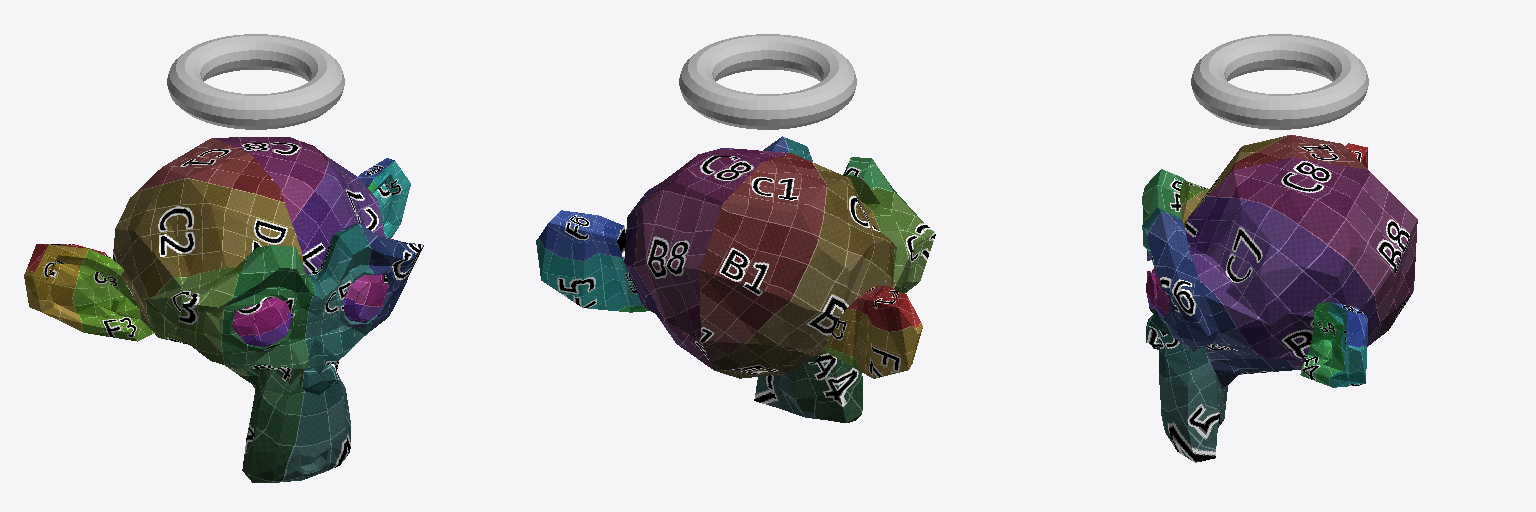
3 views of the same model, side by side, from view 1: azimuth 30°, elevation 25°; view 2: azimuth 150°, elevation 25°; view 3: azimuth 270°, elevation 25° (orthographic).
Parts seen in each view (by area): view 1: Suzanne, Torus; view 2: Suzanne, Torus; view 3: Suzanne, Torus.
Part boxes in pixels (x1,y1,x2,y2): Suzanne: (24, 137, 423, 482); Torus: (167, 34, 344, 129); Suzanne: (536, 136, 935, 422); Torus: (679, 34, 856, 129); Suzanne: (1142, 135, 1417, 462); Torus: (1191, 34, 1368, 129).
Size of the model in its own units: 2.73 by 2.59 by 1.7.
Materials: 2 (1 with a texture image).